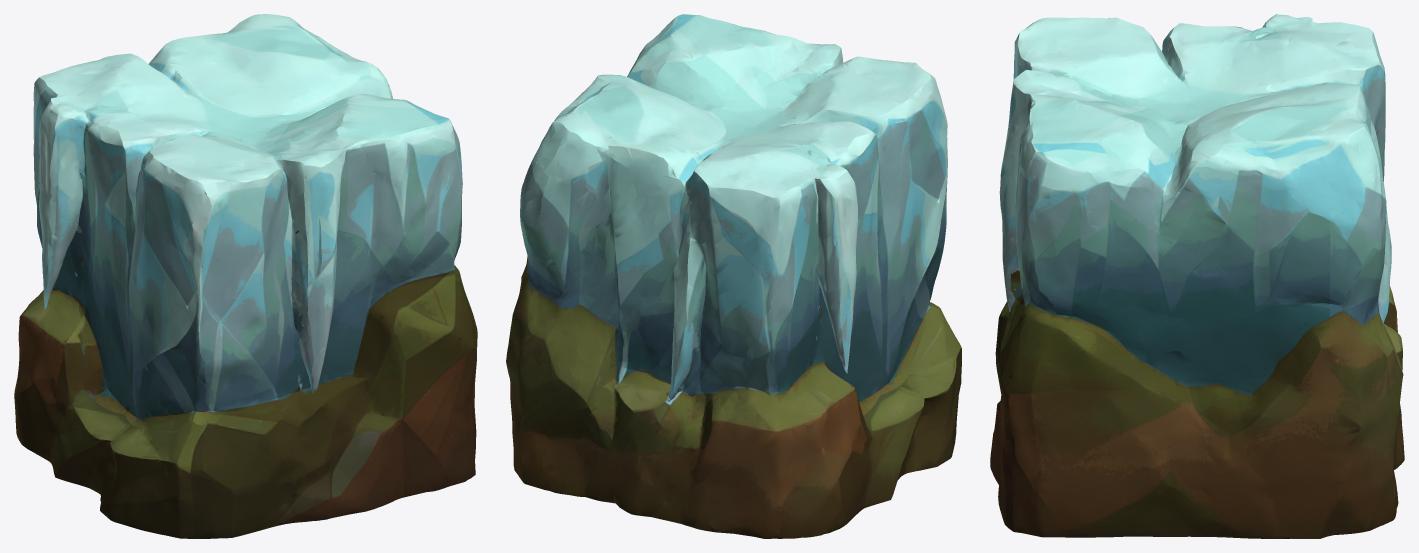
The model's file is struct_ice_structure.glb.
3 views of the same model, side by side, from view 1: azimuth 30°, elevation 25°; view 2: azimuth 150°, elevation 25°; view 3: azimuth 270°, elevation 25° (orthographic). The views are drawn at different scales.
Visible parts, largest first — view 1: struct_ice_structure; view 2: struct_ice_structure; view 3: struct_ice_structure.
Part boxes in pixels (<box>): struct_ice_structure: <box>14,14,477,538</box>; struct_ice_structure: <box>506,14,961,538</box>; struct_ice_structure: <box>990,14,1404,538</box>.
Size of the model in its own units: 0.9924 by 1 by 0.9898.
Materials: 1 (1 with a texture image).
